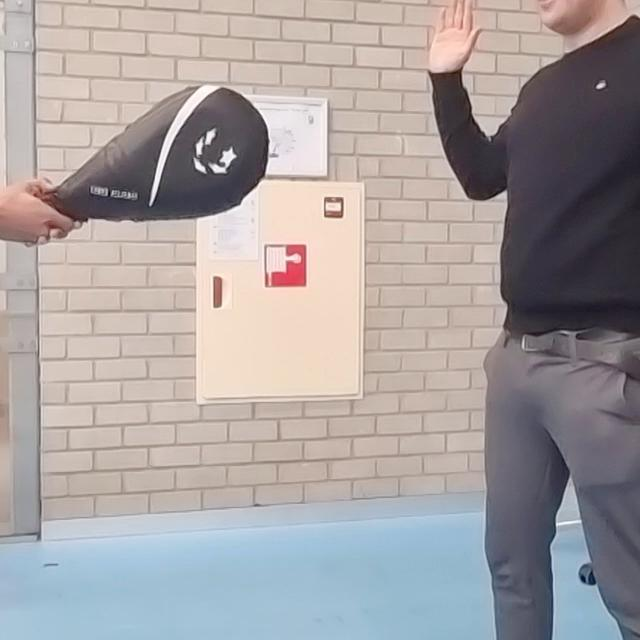paddle: (43, 81, 272, 221)
